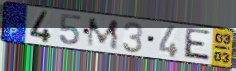3: (122, 21, 144, 53)
4: (28, 10, 53, 44), (158, 24, 180, 60)
5: (59, 12, 82, 47)
E: (182, 27, 212, 63)
M: (86, 17, 120, 52)
